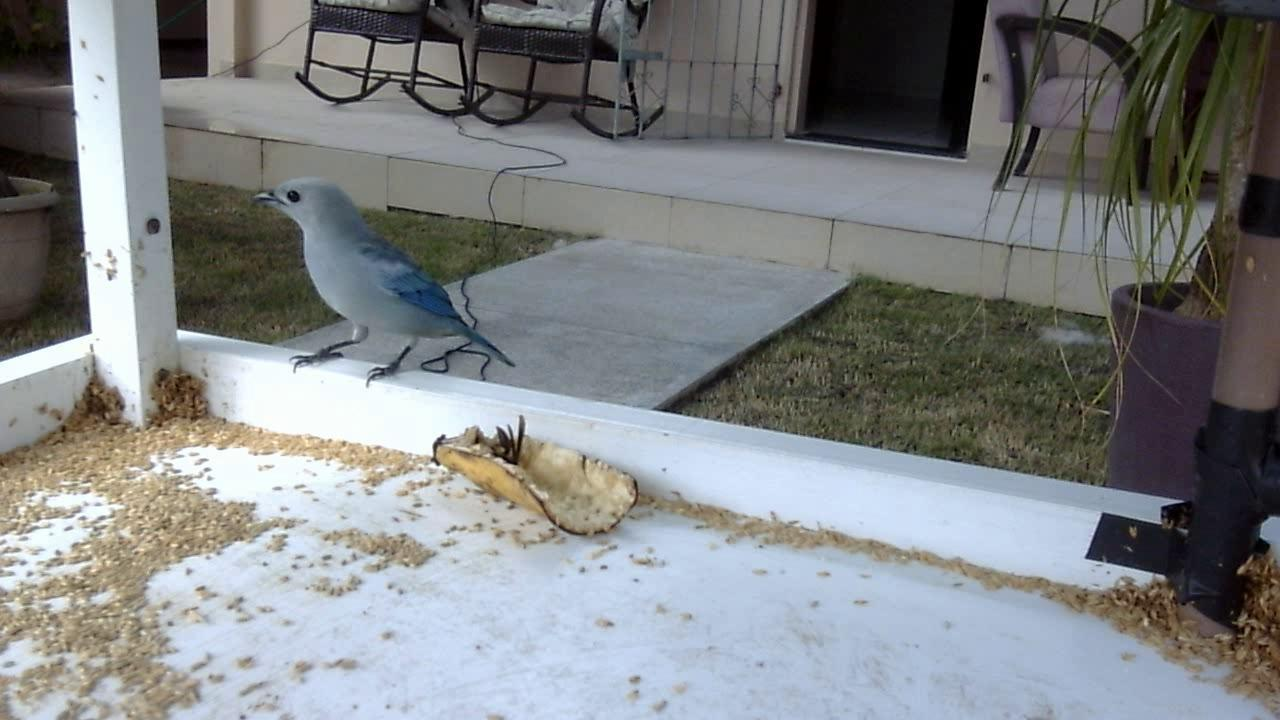sanhaco_da_amazonia: (247, 174, 521, 389)
